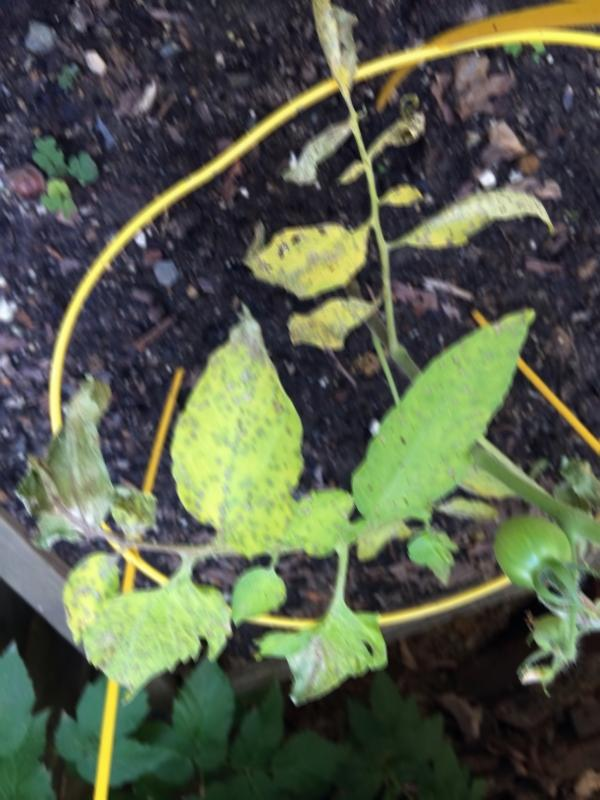Tomato Septoria leaf spot: (353, 307, 534, 557), (176, 296, 299, 574), (71, 573, 240, 708), (243, 588, 392, 723), (236, 211, 386, 292), (277, 488, 351, 569)
